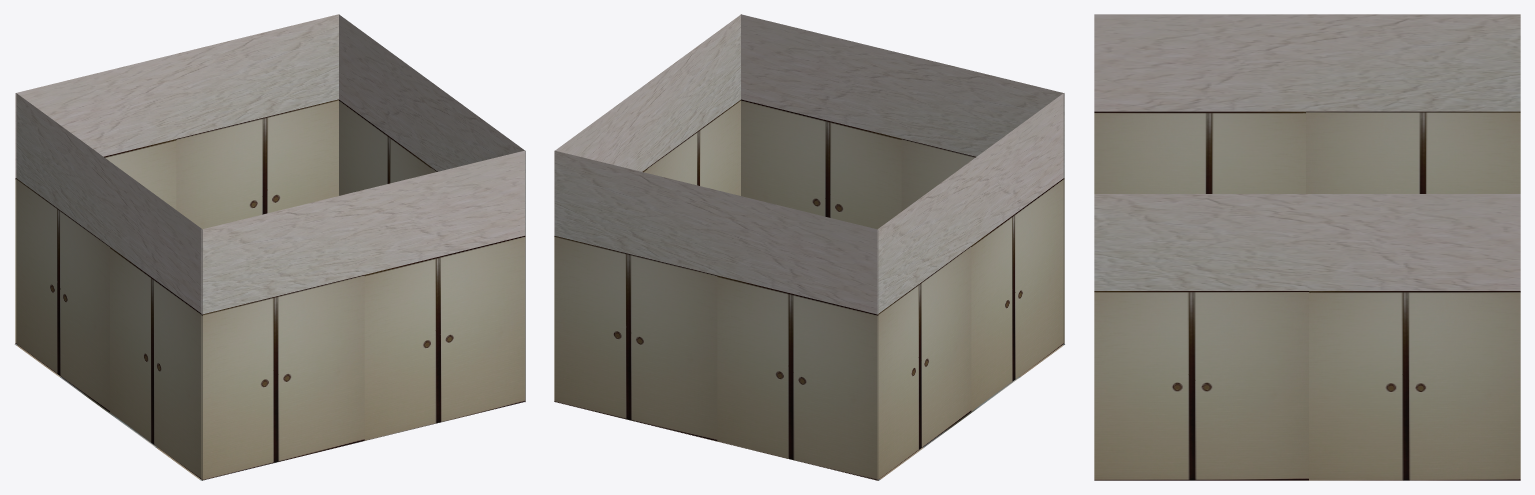
The model's file is Stage.fbx.
The picture shows the model from 3 angles, left to right: view 1: azimuth 30°, elevation 25°; view 2: azimuth 150°, elevation 25°; view 3: azimuth 270°, elevation 25°; orthographic projection. The views are drawn at different scales.
Visible parts, largest first — view 1: wall1, wall3, wall, wall2; view 2: wall, wall3, wall1, wall2; view 3: wall2, wall3.
Boxes of the visible parts, x1,y1,x2,y2 form: wall1: [201, 150, 525, 480]; wall3: [16, 93, 202, 480]; wall: [15, 14, 338, 343]; wall2: [339, 14, 525, 401]; wall: [554, 150, 878, 480]; wall3: [877, 93, 1063, 479]; wall1: [741, 14, 1064, 344]; wall2: [554, 14, 740, 401]; wall2: [1094, 194, 1520, 480]; wall3: [1094, 14, 1520, 193].
Bounding box in the file's own units: 3649 × 2700 × 3640.
1 material, 1 textured.
